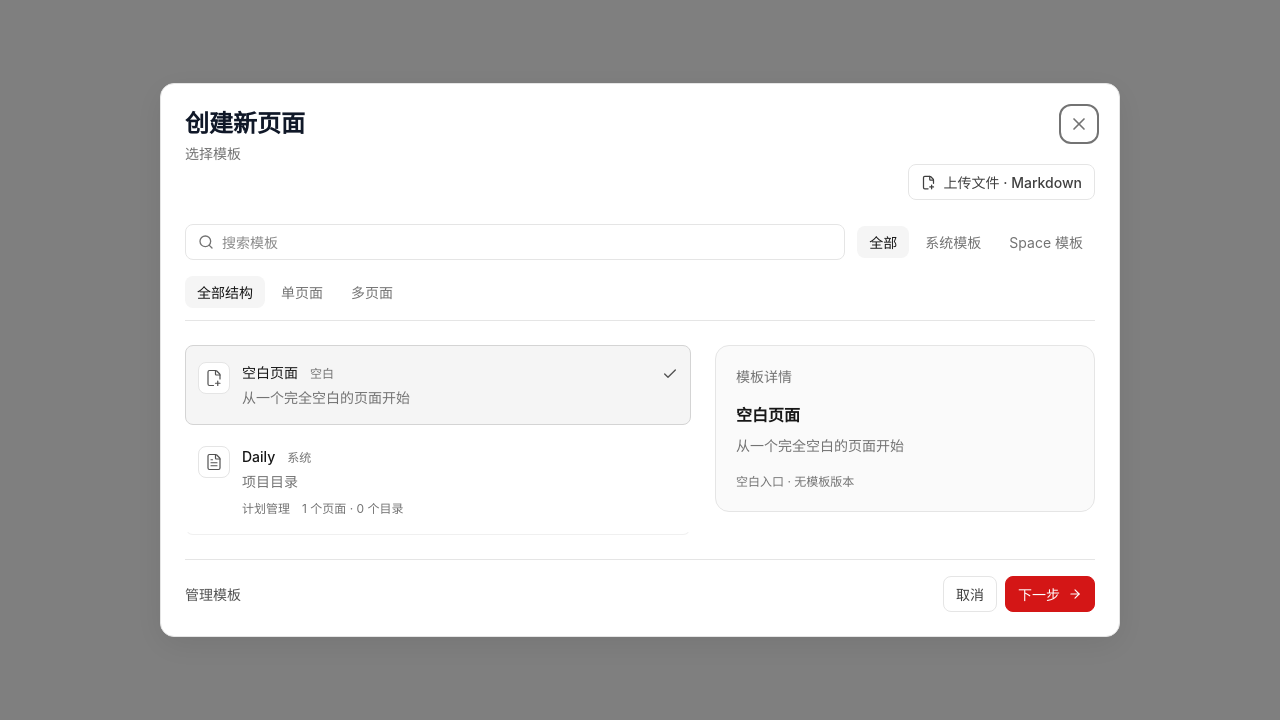
Test: NewPageDialog composite flow › interpolates system single-page default titles with catalog enabled=true
Click the button "Daily 系统 项目目录 计划管理 1 个页面 · 0 个目录" at (214, 462), box [185,429,691,535]
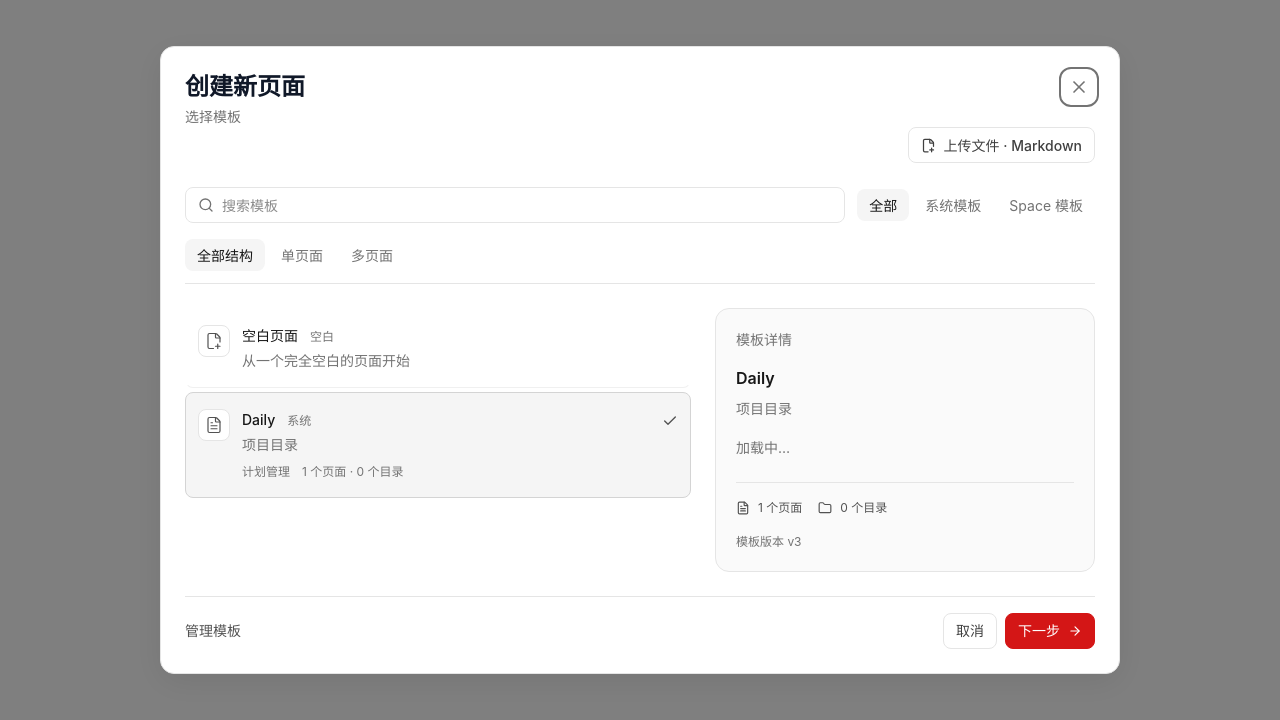
Click the button "下一步" at (1050, 631), box [1005,613,1095,649]
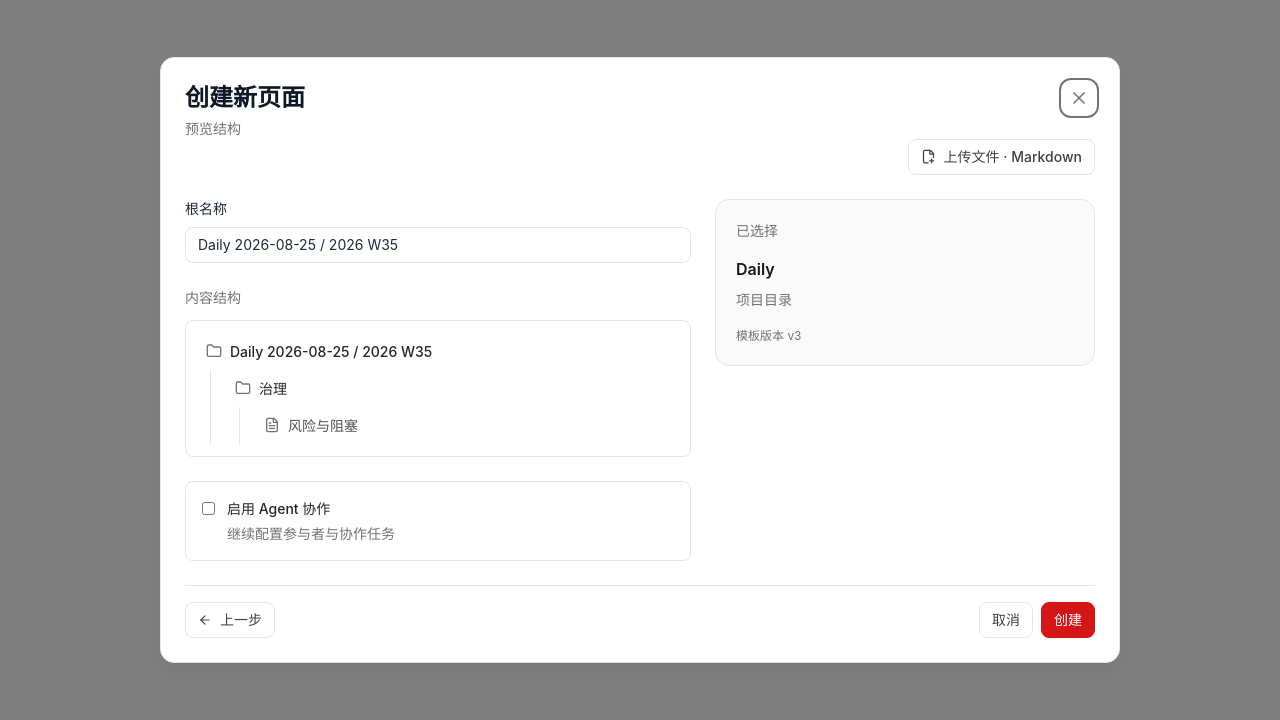
Now the field labelled "根名称" holds "Daily 2026-08-25 / 2026 W35", box [185,227,691,263]
